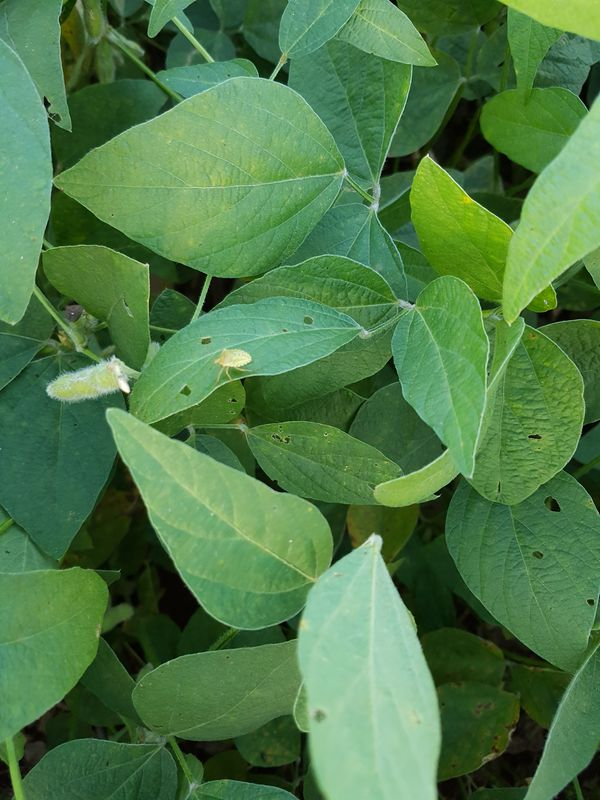Euschistus_heros_adulto: (60, 299, 90, 328)
Euschistus_heros_ninfa: (208, 342, 258, 388)
